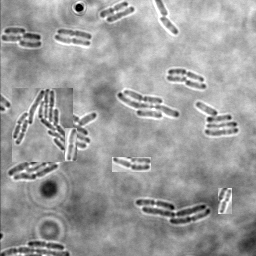Dividing: (167, 67, 204, 81), (99, 1, 128, 18), (131, 45, 160, 60), (67, 207, 78, 234)
Microcolony: (3, 120, 63, 254), (36, 22, 112, 70), (117, 88, 180, 119), (135, 199, 211, 224), (195, 101, 238, 136), (1, 27, 35, 48)
Rod: (106, 5, 135, 23), (157, 16, 178, 34), (184, 79, 206, 89), (166, 73, 187, 82)
